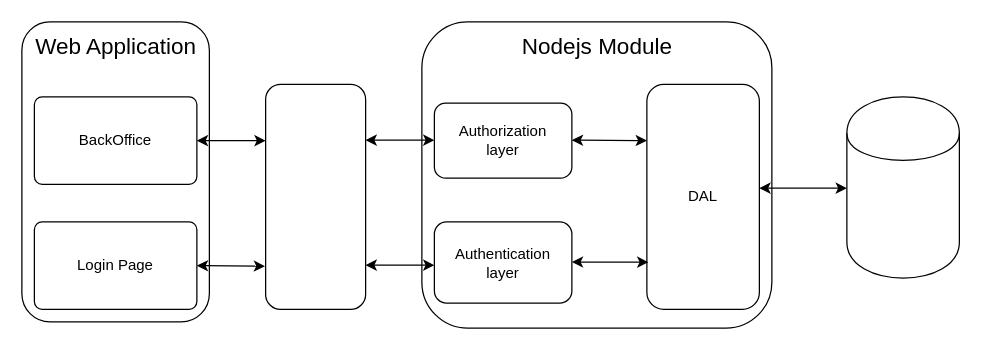
Some shapes in this 981 by 350 pixel diagram are drawn without their labels. Each missing label, with the centre of its shape:
API: the point at 315,196
Database: the point at 902,187
